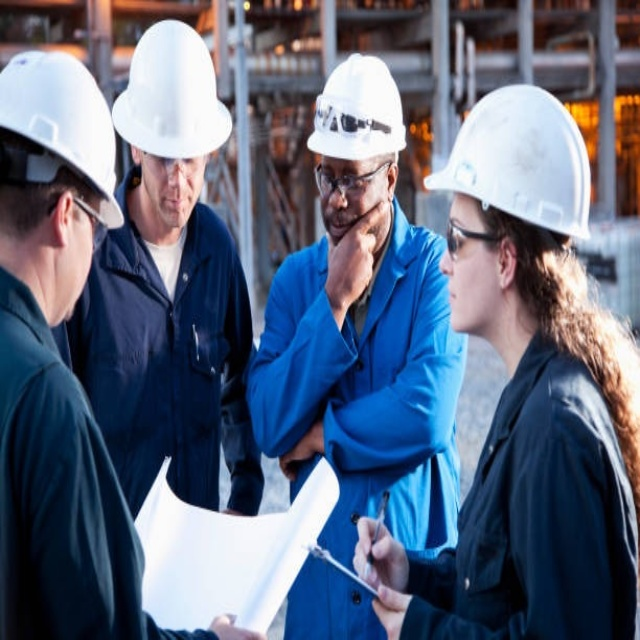Gafas: (46, 191, 109, 257), (312, 157, 389, 199), (445, 215, 503, 260), (142, 149, 211, 177)
Sin_guantes: (322, 216, 379, 298), (352, 510, 408, 585), (371, 584, 406, 638)
Sin_mascara: (445, 273, 481, 329), (158, 187, 192, 223), (325, 207, 351, 243)
